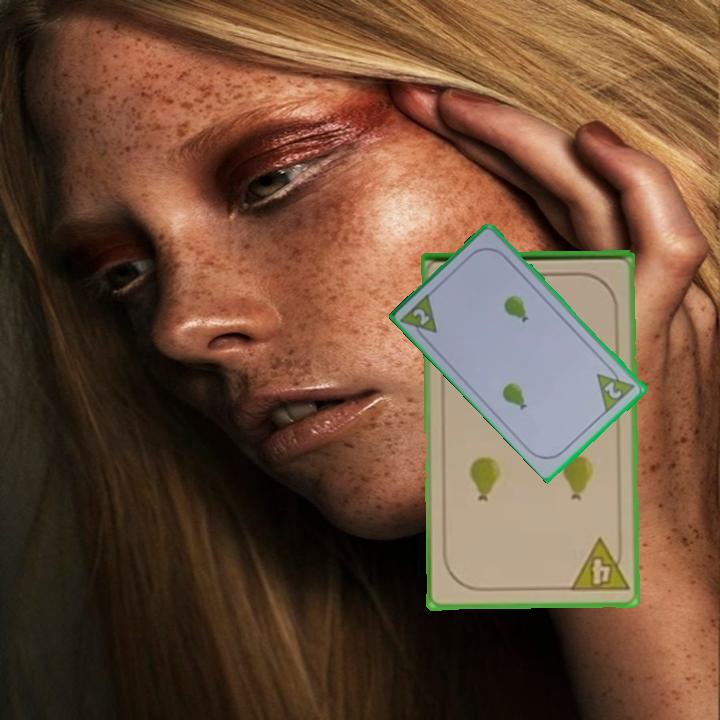2p: (398, 289, 441, 346), (601, 378, 625, 402)
4p: (566, 535, 631, 595)
